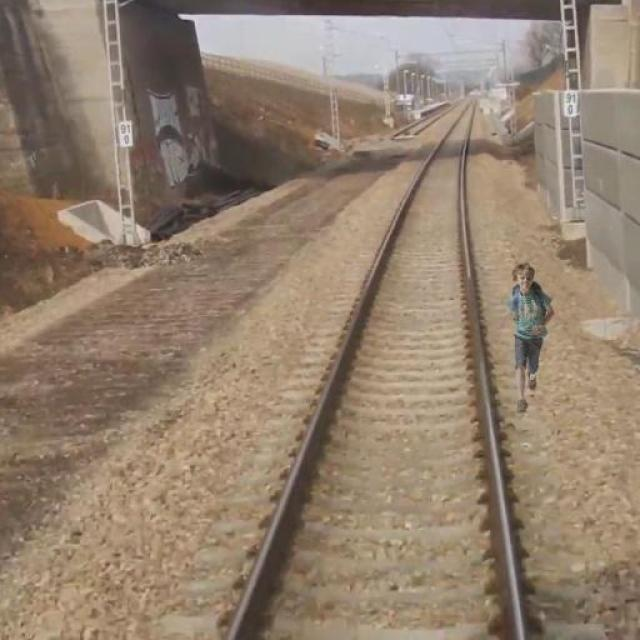people: (501, 256, 556, 416)
